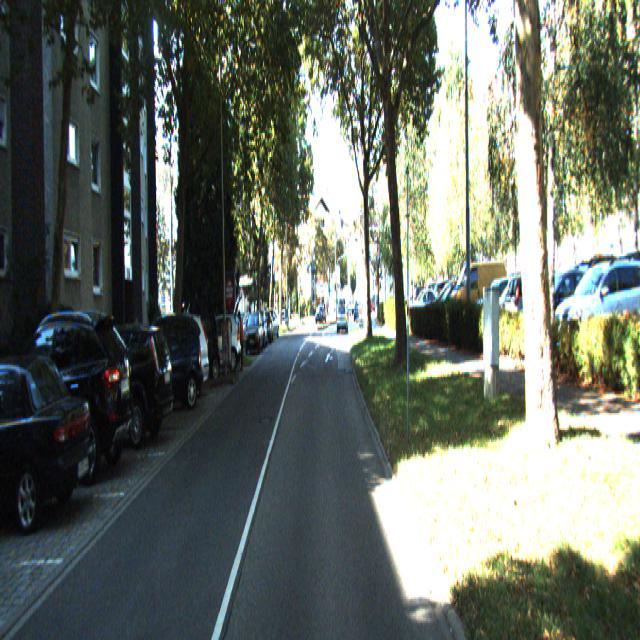Car: (0, 311, 133, 488), (0, 352, 97, 541), (60, 322, 174, 460), (120, 312, 202, 421), (193, 313, 242, 376), (182, 317, 219, 383), (245, 312, 263, 359)
